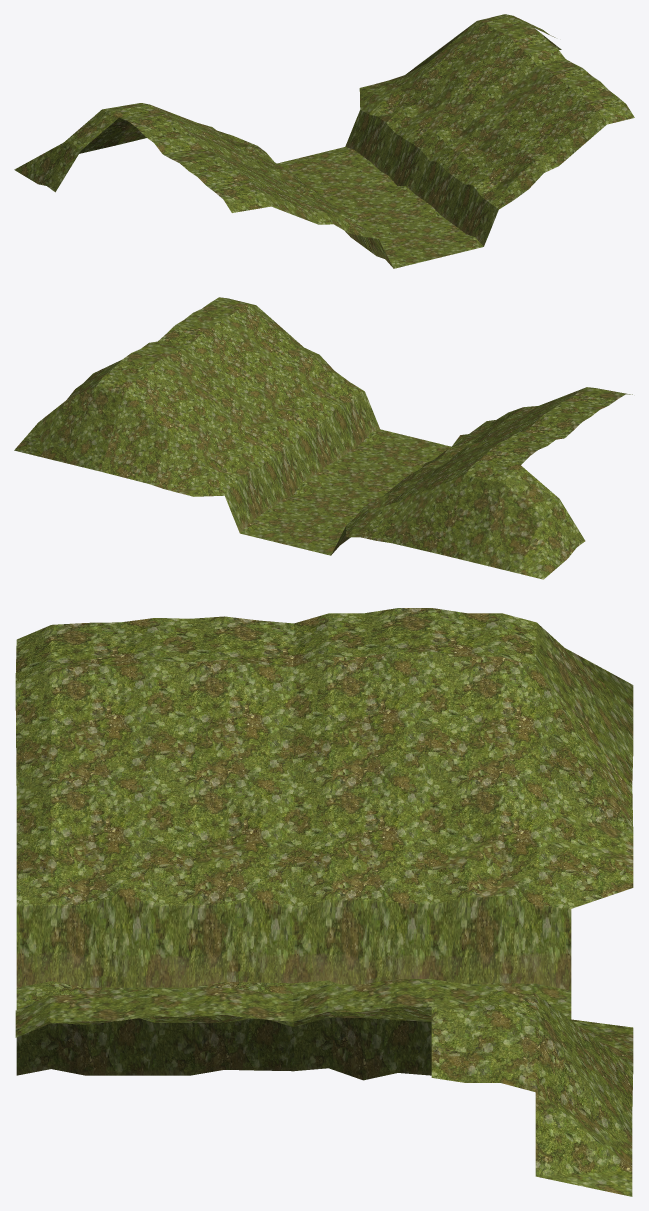
Rendered from WaterLandscapeMiddle.glb.
3 renders of one model, top to bottom at view 1: azimuth 30°, elevation 25°; view 2: azimuth 150°, elevation 25°; view 3: azimuth 270°, elevation 25°, orthographic. The views are drawn at different scales.
Parts seen in each view (by area): view 1: Plane.002; view 2: Plane.002; view 3: Plane.002.
Part boxes in pixels (box(x1,y1,x2,y2)): Plane.002: box(14, 14, 634, 268); Plane.002: box(14, 297, 632, 579); Plane.002: box(15, 608, 633, 1196).
Size of the model in its own units: 32.58 by 6.73 by 16.64.
1 material, 1 textured.
